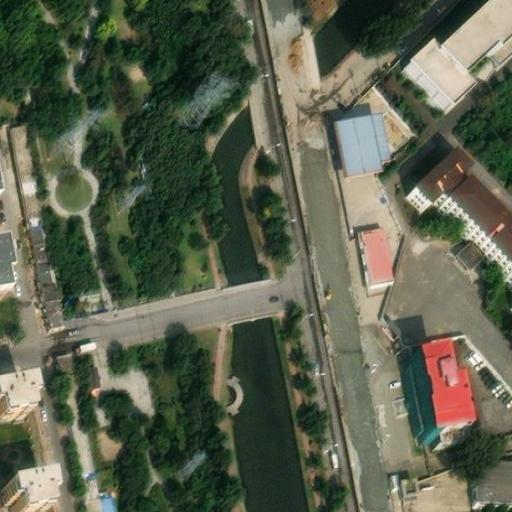building: (413, 139, 512, 252), (58, 347, 117, 512), (397, 36, 473, 112), (168, 61, 236, 131), (415, 333, 466, 425), (29, 208, 69, 325), (335, 105, 392, 171), (9, 113, 46, 212), (470, 457, 512, 504), (361, 223, 395, 277), (4, 466, 48, 506), (448, 233, 486, 271), (172, 442, 210, 478), (0, 371, 31, 412), (0, 230, 15, 289), (73, 336, 97, 354), (433, 422, 450, 438)
